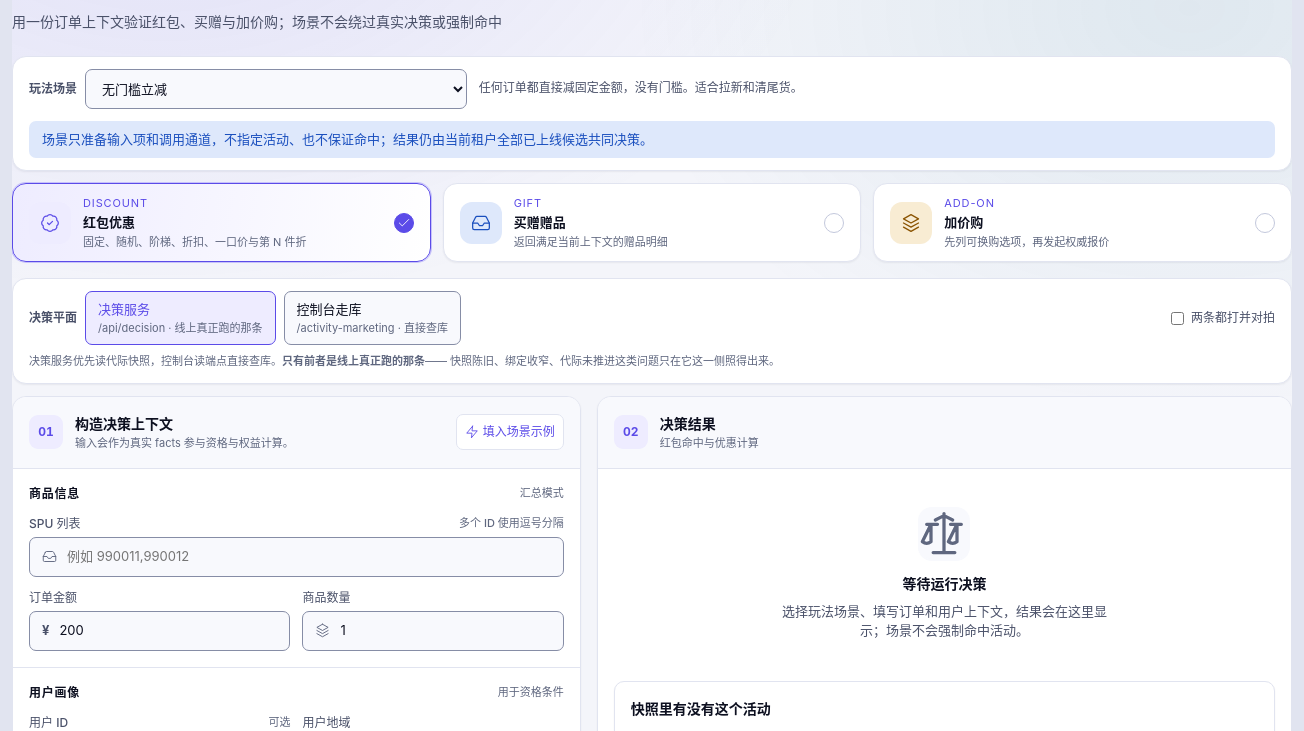
ValidateView › 普通模式发送类型化汇总请求，且 lines 明确为 null
Type "990011, 990012" into the field with test id "v-spu". click: (308, 557)
box: [65,546,551,567]
Replace the text in the number field with test id "v-order-amount" with "300.5". click: (167, 631)
box: [57,620,277,641]
Replace the text in the number field with test id "v-quantity" with "2". click: (445, 631)
box: [338,620,551,641]
(page scrolled)
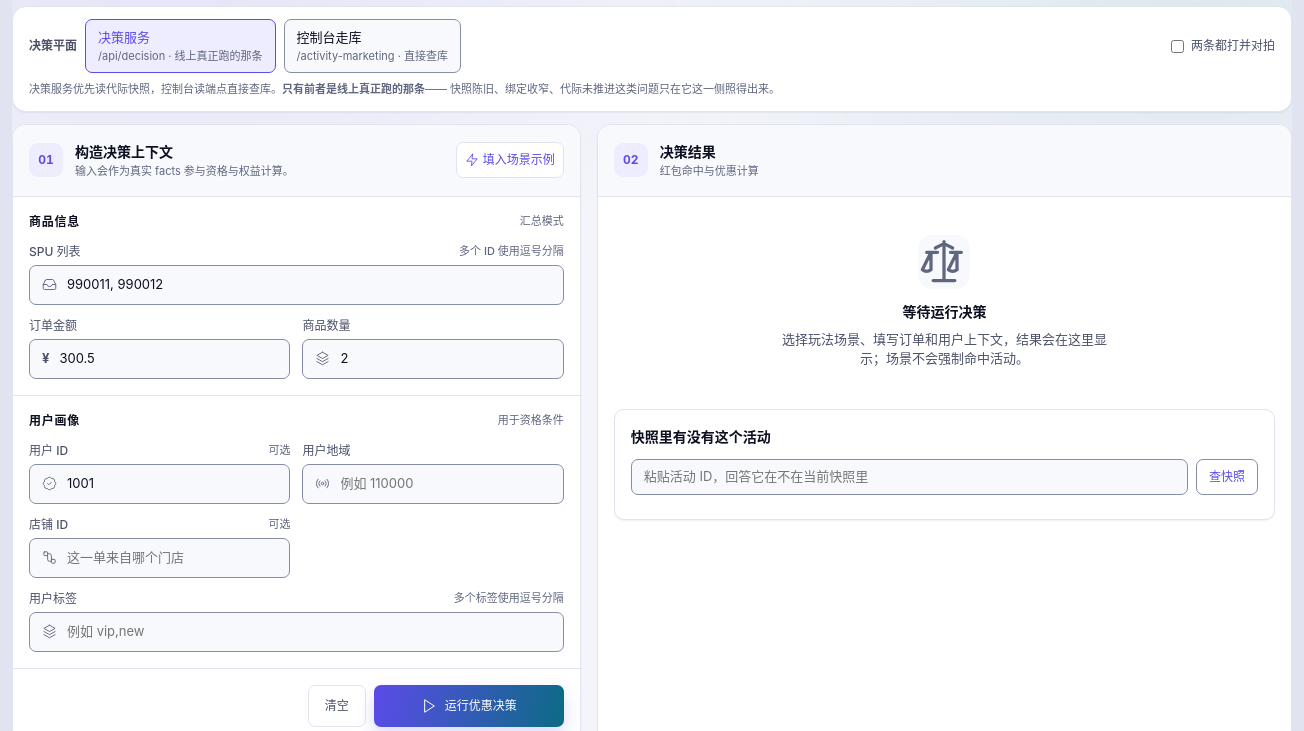
Replace the text in the number field with test id "v-user" with "42". click: (171, 484)
box: [65,473,277,494]
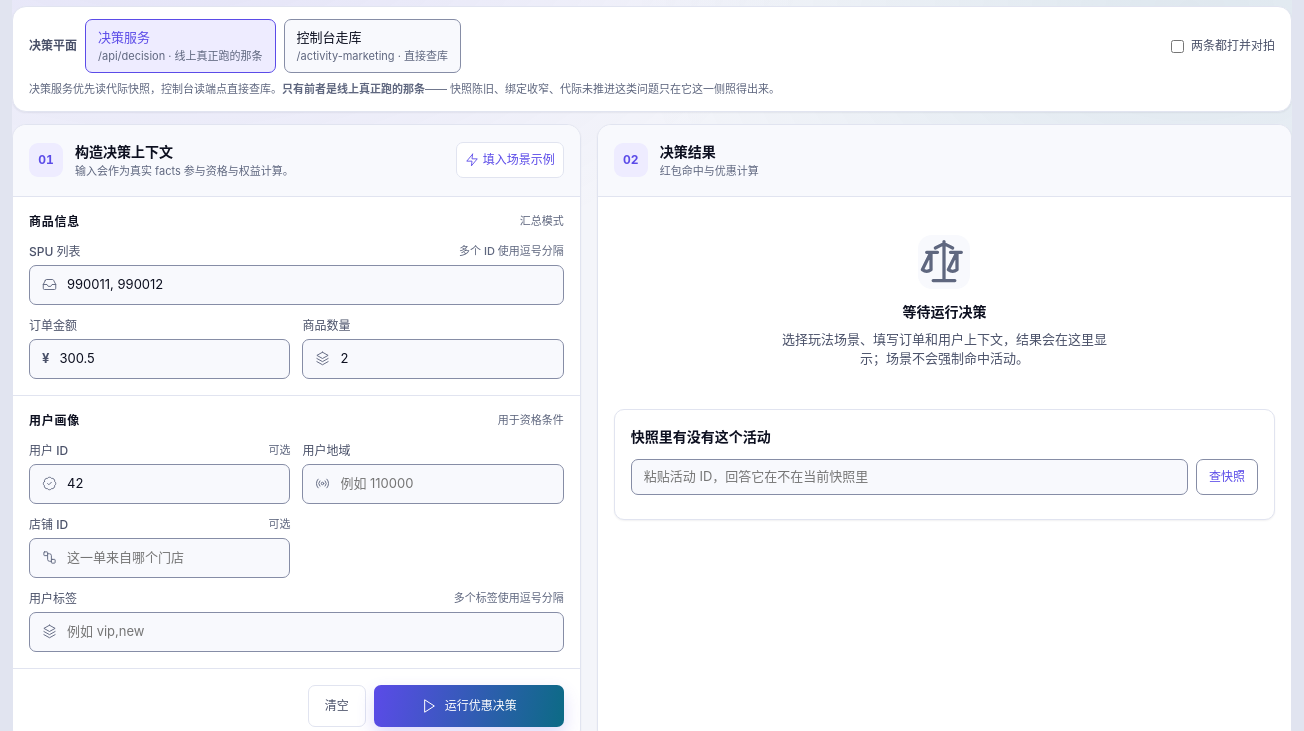
Type "310000" into the field with test id "v-district". click: (445, 484)
box: [338,473,551,494]
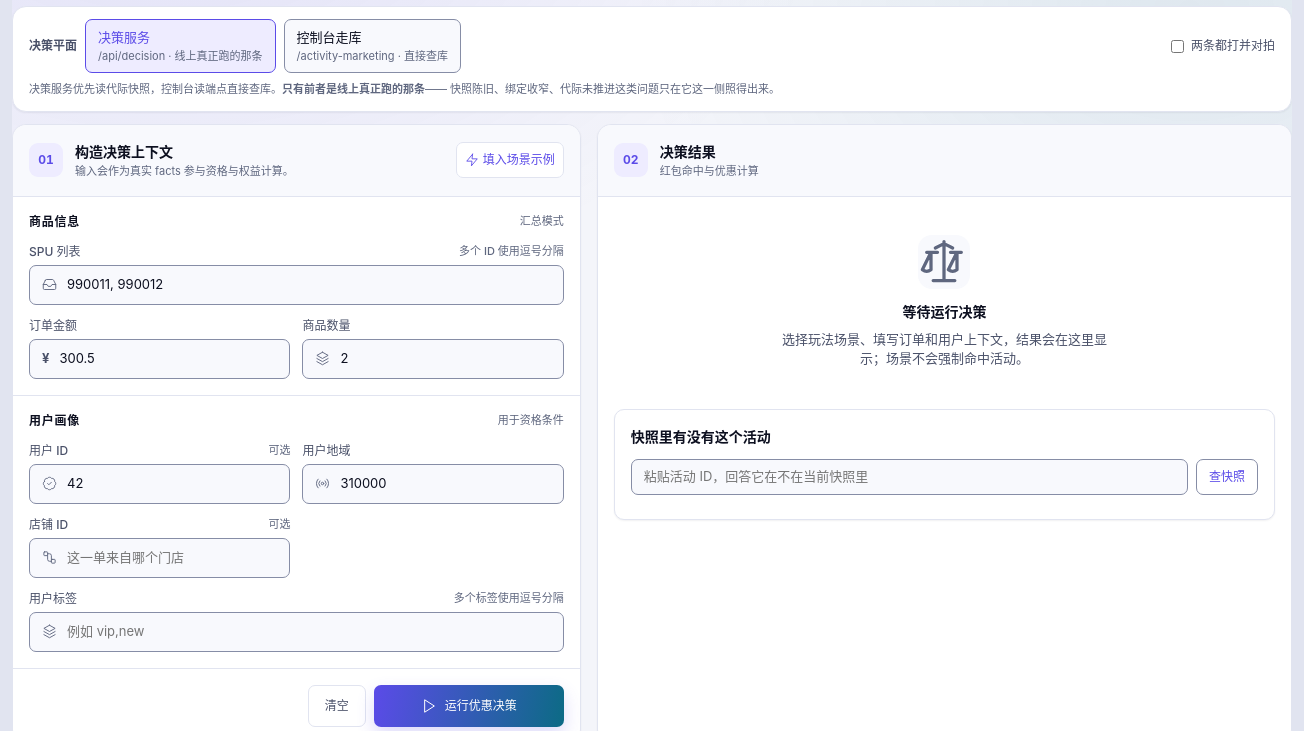
Type "vip, new" into the field with test id "v-tags". click: (308, 632)
box: [65,621,551,642]
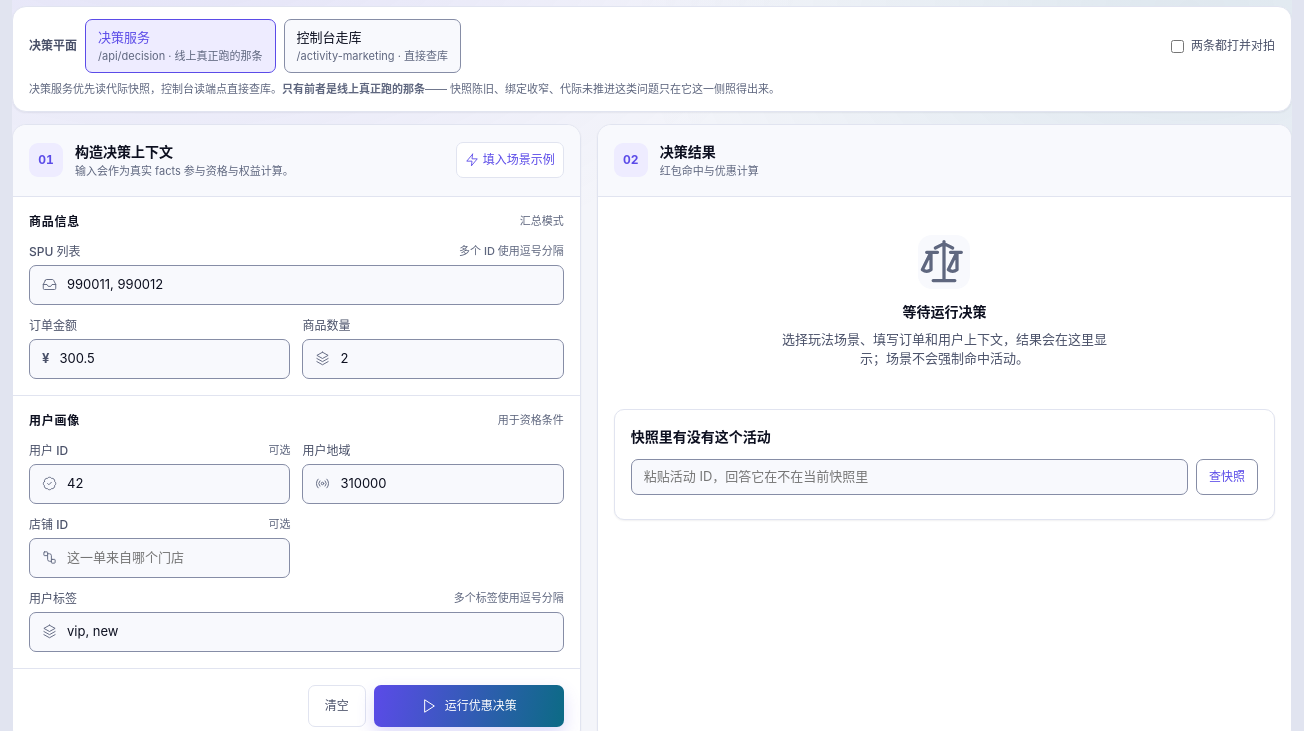
Type "7" into the number field with test id "v-store". click: (171, 558)
box: [65,547,277,568]
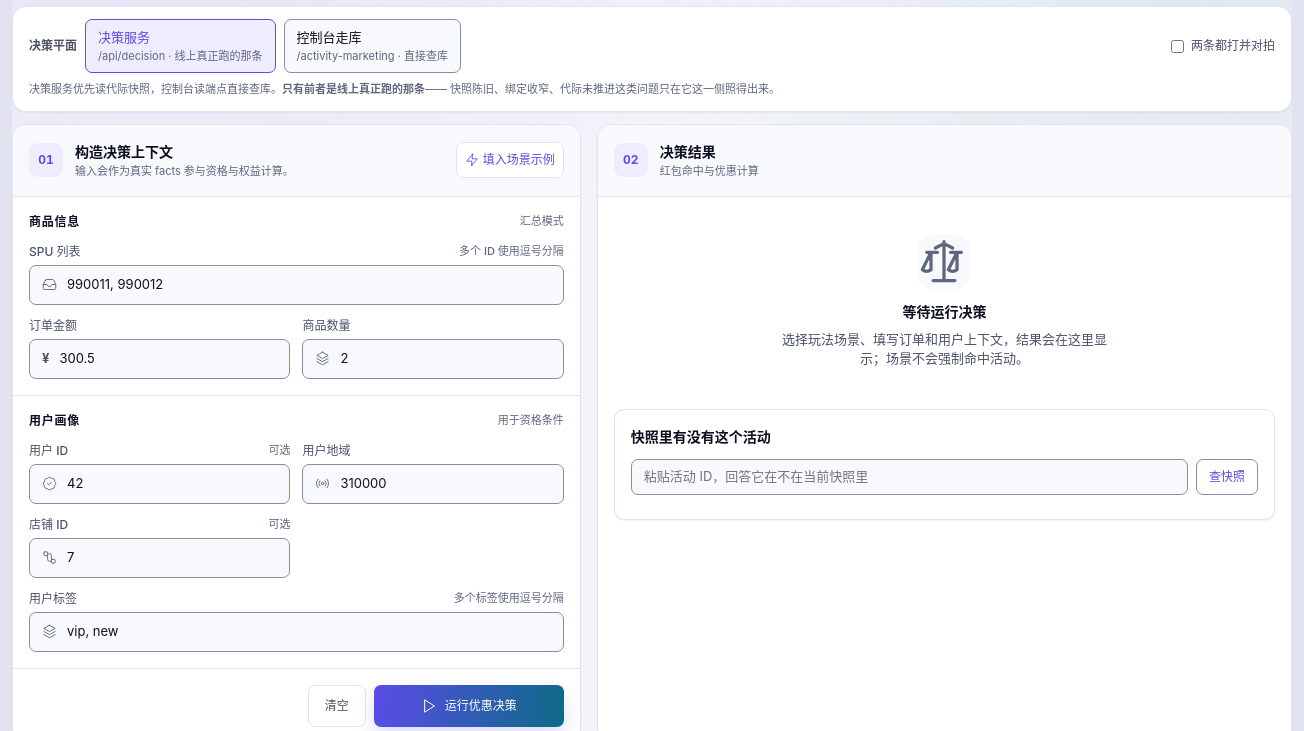
Click the button with test id "v-discount". click: (469, 706)
box: [374,685,564,727]
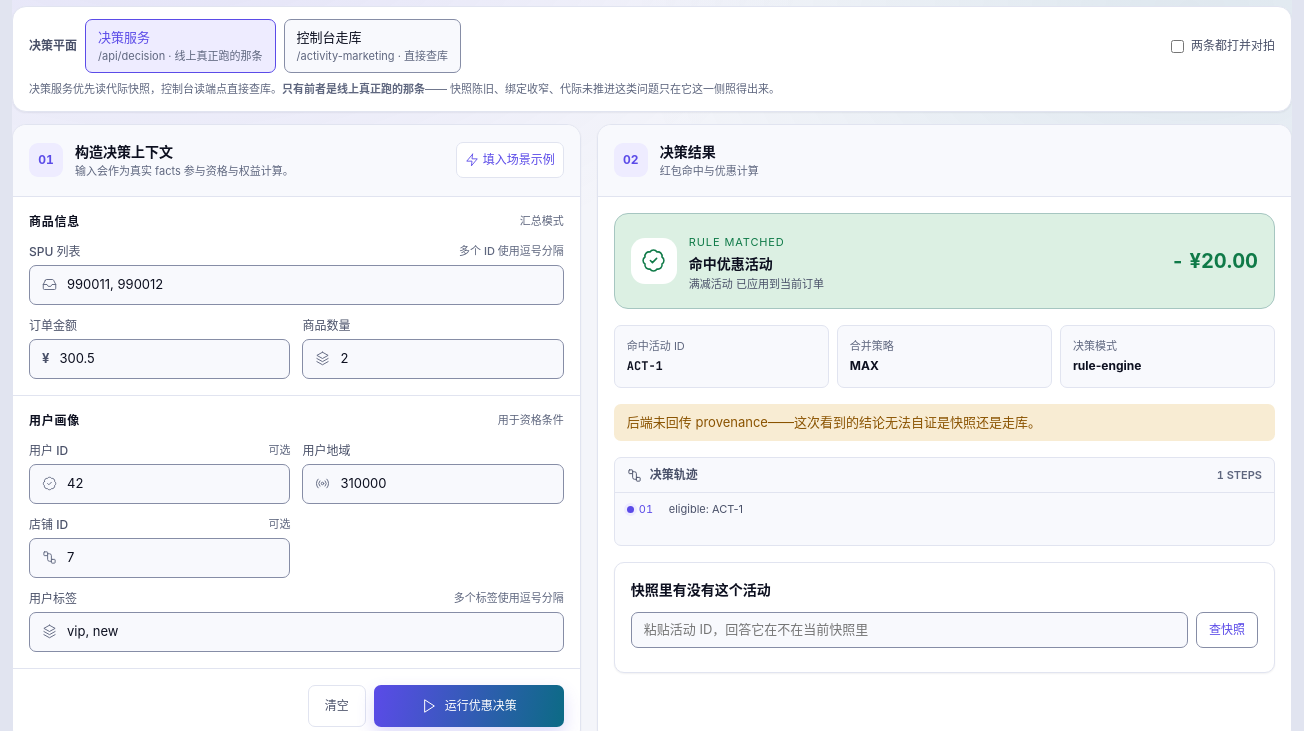
Result: the element with test id "validate-result" shows "满减活动" at [689,277,824,291]
Result: the text "eligible: ACT-1" is shown at [669,502,743,516]
